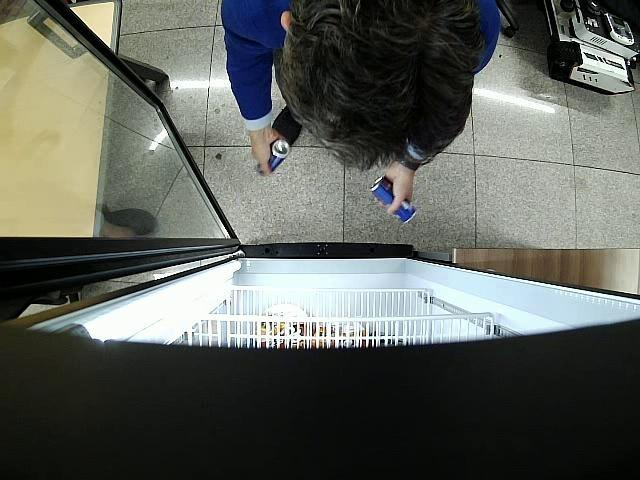16_hot6: (370, 175, 416, 223), (258, 140, 289, 174)
